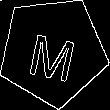M_N: (25, 22, 81, 81)
